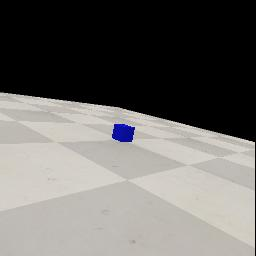box: (112, 124, 135, 142)
